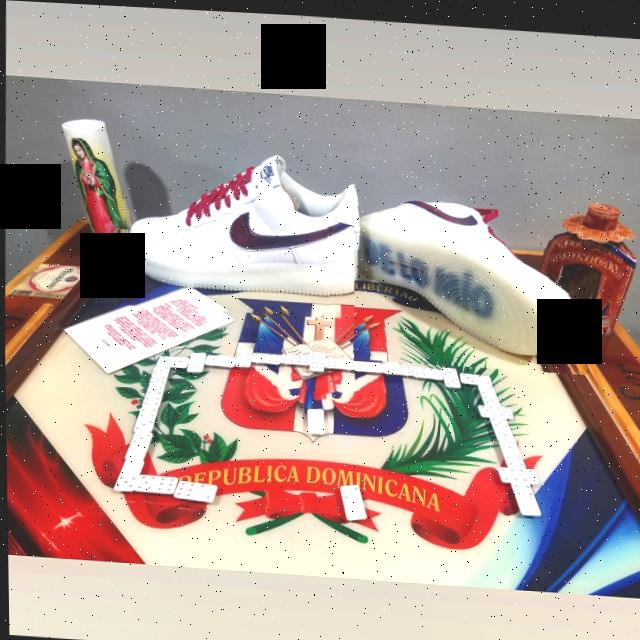shoe: (350, 178, 600, 369), (118, 139, 369, 318)
